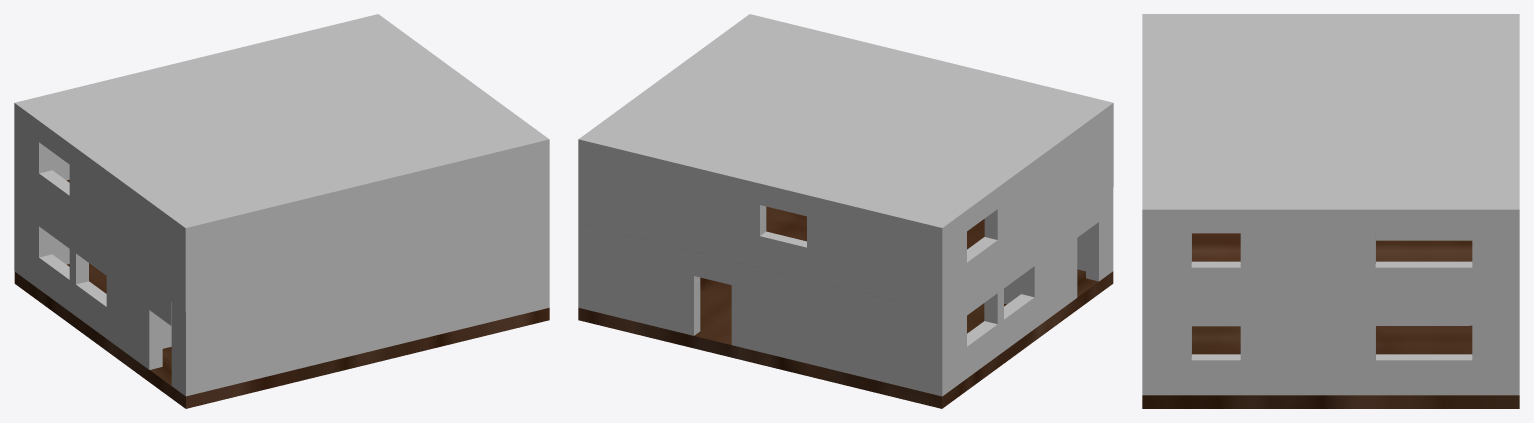
The model's file is house6.fbx.
3 renders of one model, left to right at view 1: azimuth 30°, elevation 25°; view 2: azimuth 150°, elevation 25°; view 3: azimuth 270°, elevation 25°, orthographic. The views are drawn at different scales.
Visible parts, largest first — view 1: pasted__pasted__pasted__pCube1; view 2: pasted__pasted__pasted__pCube1; view 3: pasted__pasted__pasted__pCube1.
Part boxes in pixels (bbox=[...]): pasted__pasted__pasted__pCube1: bbox=[14, 14, 549, 408]; pasted__pasted__pasted__pCube1: bbox=[578, 14, 1113, 408]; pasted__pasted__pasted__pCube1: bbox=[1142, 14, 1519, 408].
Size of the model in its own units: 29.37 by 13.95 by 23.93.
